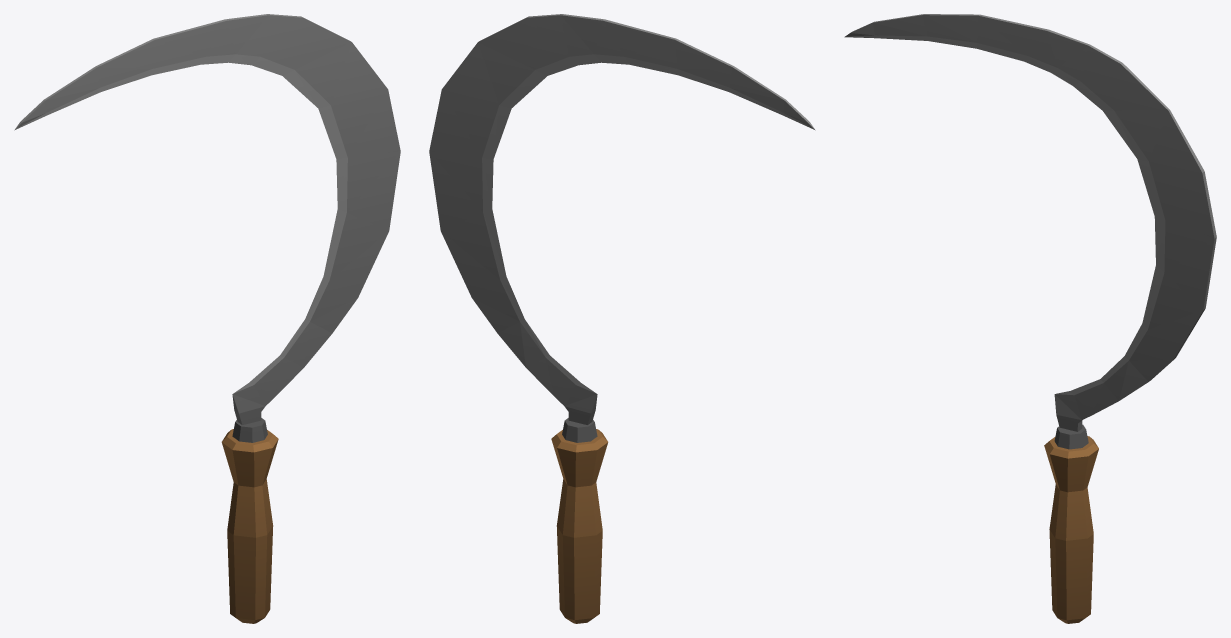
Rendered from Tool_Hand_Scythe_03.obj.
3 renders of one model, left to right at view 1: azimuth 30°, elevation 25°; view 2: azimuth 150°, elevation 25°; view 3: azimuth 330°, elevation 25°, orthographic. The views are drawn at different scales.
Visible parts, largest first — view 1: Tool_Hand_Scythe_03; view 2: Tool_Hand_Scythe_03; view 3: Tool_Hand_Scythe_03.
Part boxes in pixels (x1,y1,x2,y2): Tool_Hand_Scythe_03: [14, 14, 400, 623]; Tool_Hand_Scythe_03: [429, 14, 815, 623]; Tool_Hand_Scythe_03: [844, 14, 1216, 623].
Size of the model in its own units: 0.3395 by 0.51 by 0.0407.
Materials: 1 (1 with a texture image).
